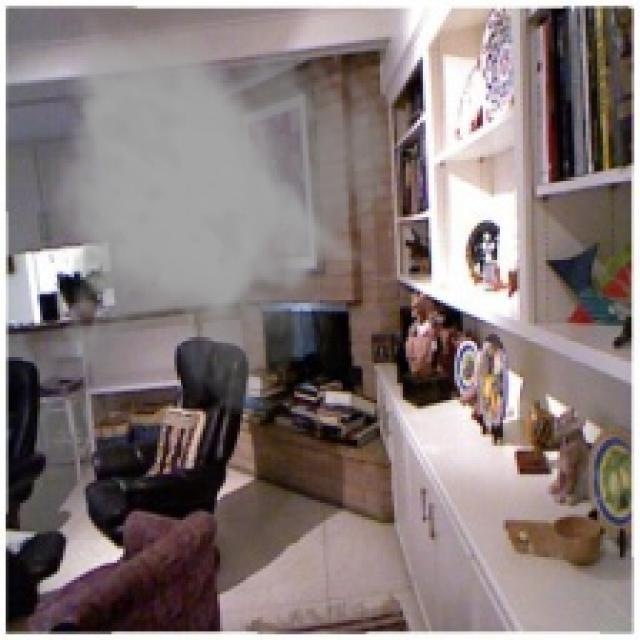Smoke: (52, 12, 394, 414)
